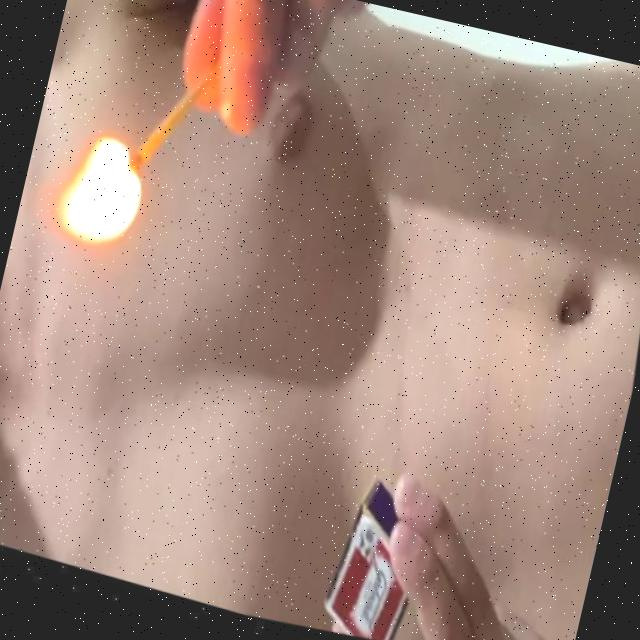fire: (16, 121, 164, 281)
